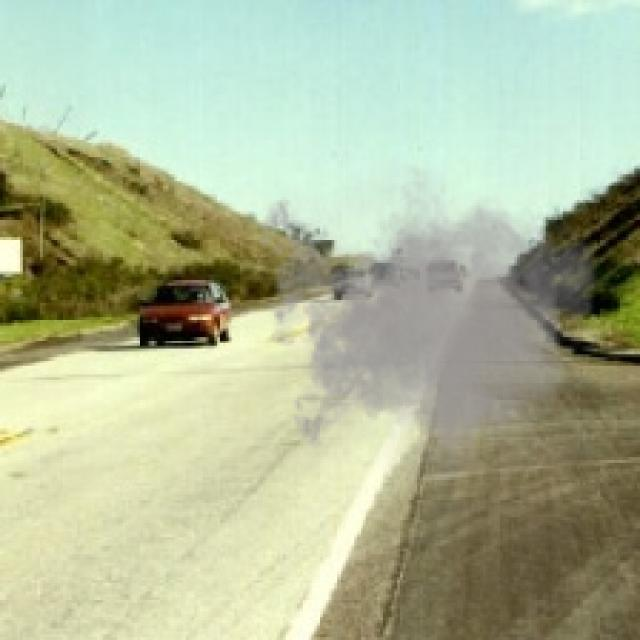Smoke: (248, 145, 603, 500)
